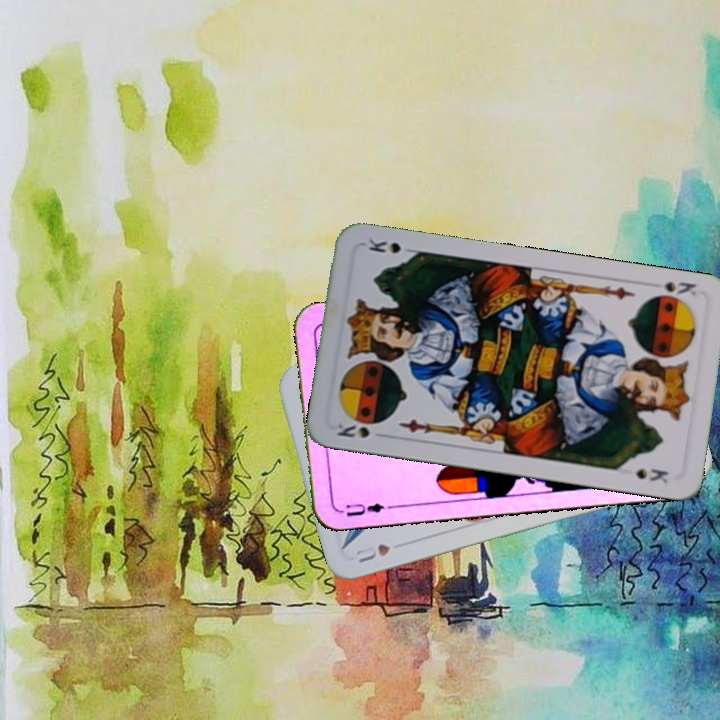EU: (335, 499, 387, 519)
HU: (351, 540, 393, 566)
SK: (333, 419, 373, 441), (660, 277, 699, 299)
